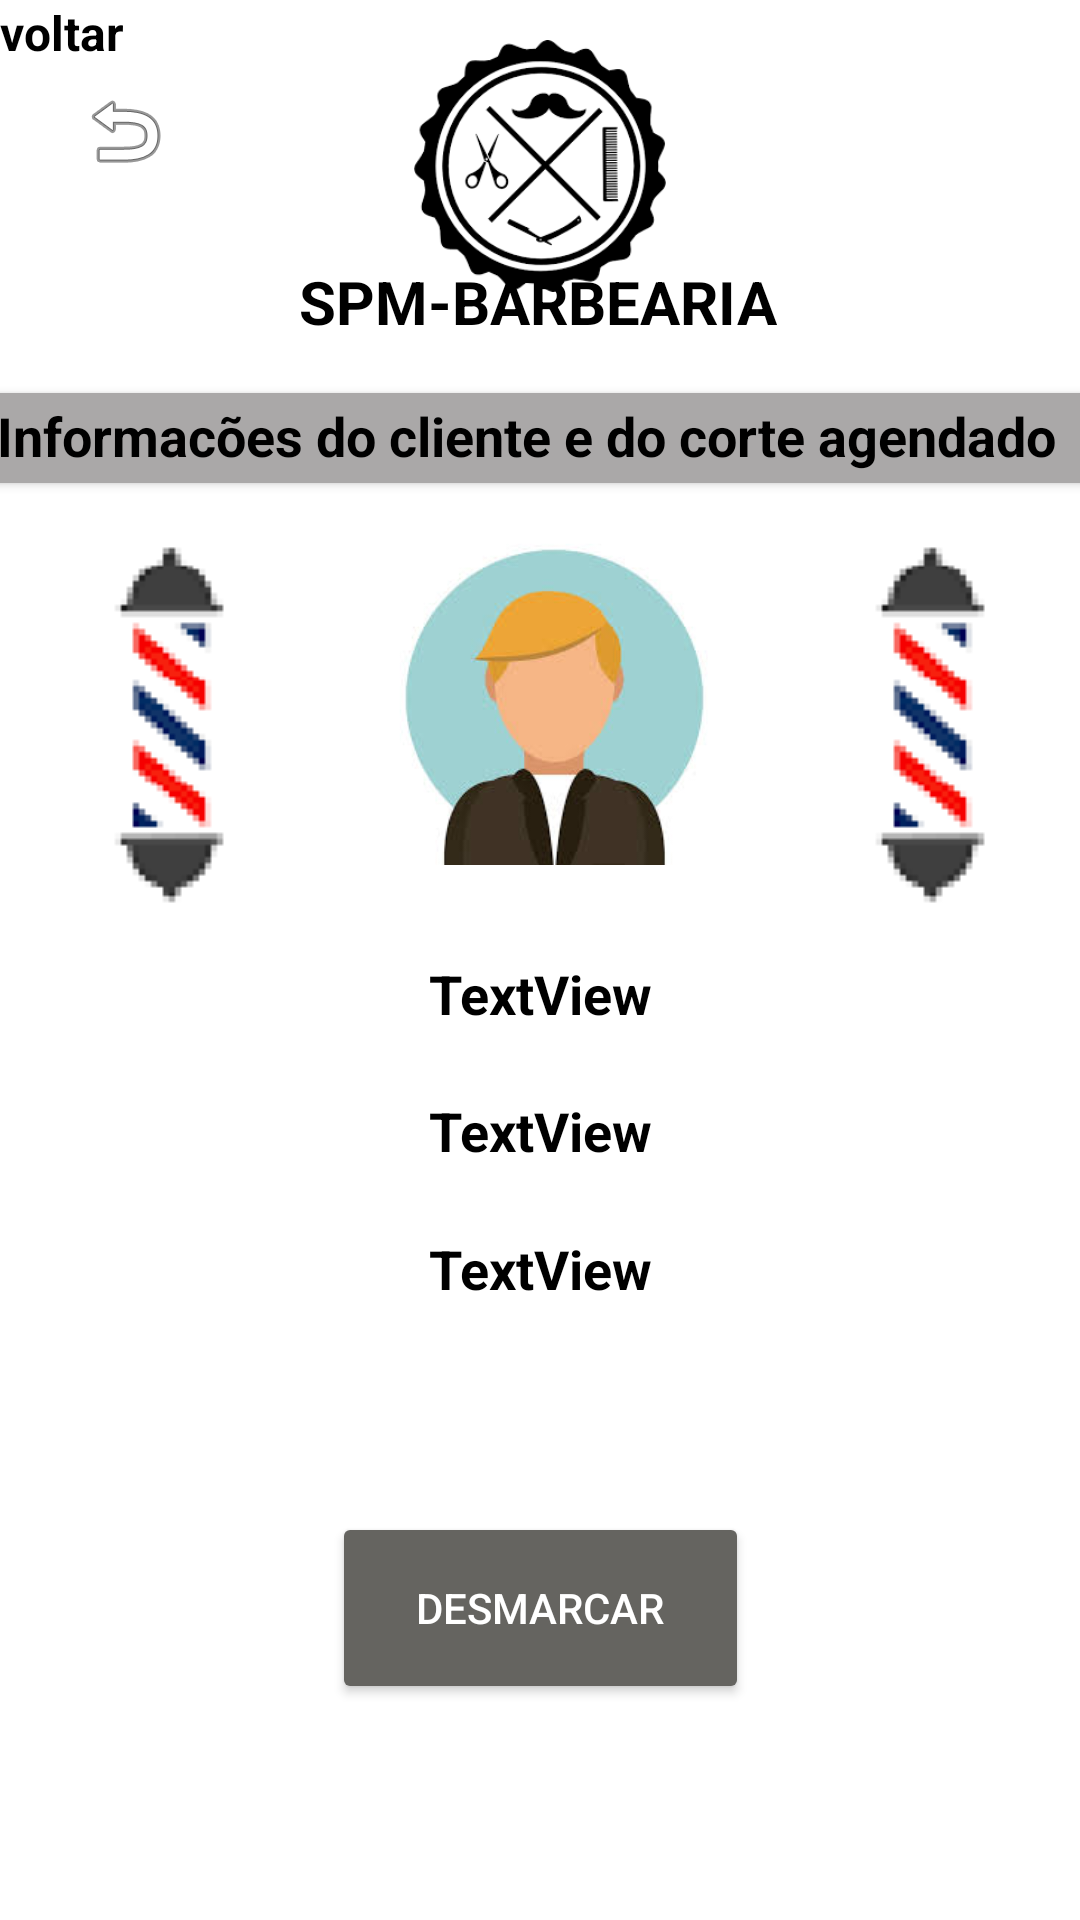

Where icons sit on this 1080x1920 app screen, as (x1, y1, x2, y2):
images homem: (405, 549, 704, 865)
revert: (92, 100, 161, 163)
